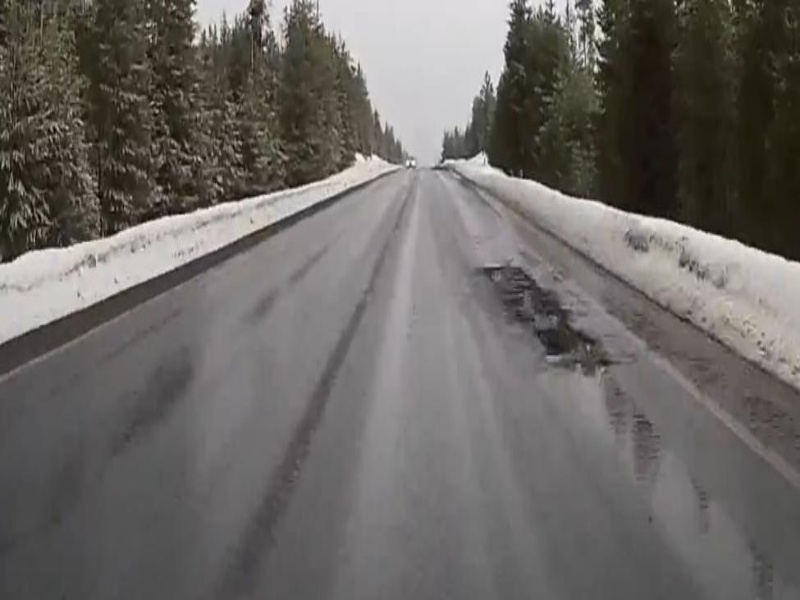pothole: (486, 262, 610, 380)
